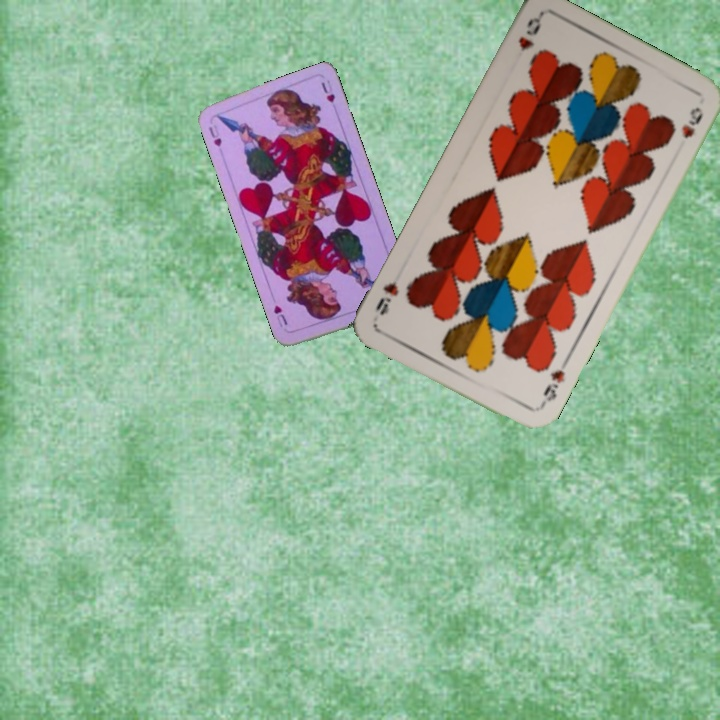H9: (536, 356, 570, 411), (514, 13, 544, 55)
HU: (204, 120, 224, 149)
